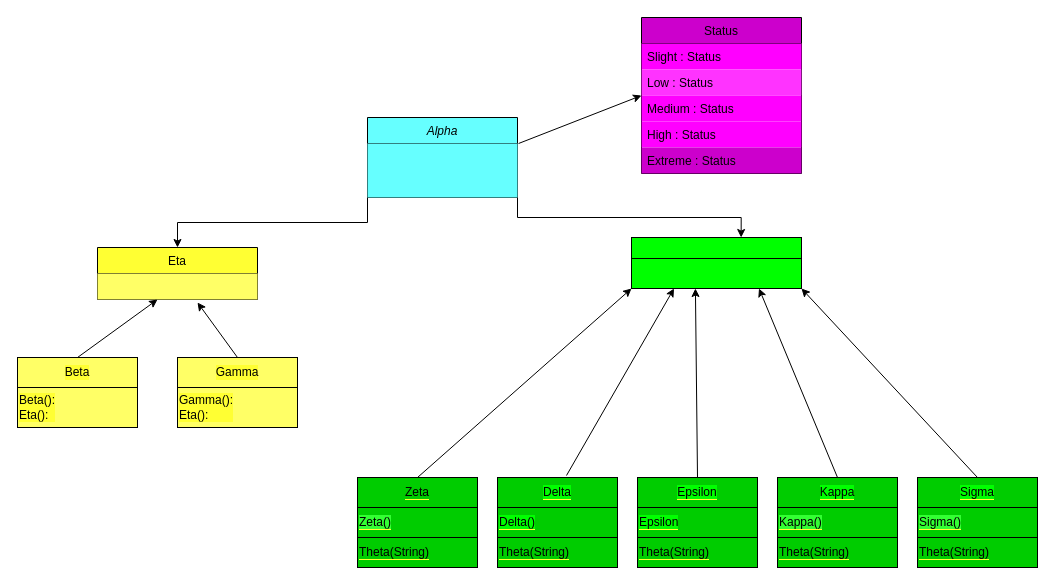
This 1055x585 diagram has some shape labels left out. The shapes that lost their labels are listed below. From the top down, each one's centre as x and y in pixels, then its label:
At (x=442, y=170): "Alpha() Alpha (Status)".
At (x=716, y=252): "Theta".
At (x=177, y=286): "Eta ():".
At (x=716, y=273): "Theta():".
